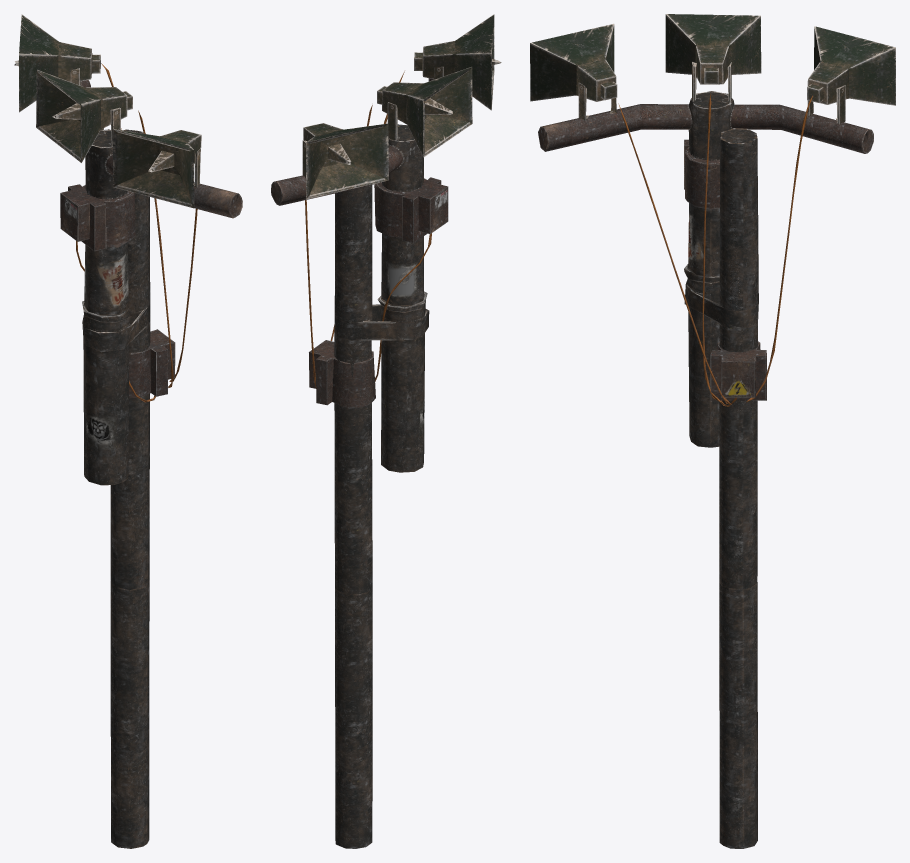
Rendered from SM_Speakers.fbx.
The picture shows the model from 3 angles, left to right: view 1: azimuth 30°, elevation 25°; view 2: azimuth 150°, elevation 25°; view 3: azimuth 270°, elevation 25°; orthographic projection. The views are drawn at different scales.
Visible parts, largest first — view 1: SM_Speakers_LOD0; view 2: SM_Speakers_LOD0; view 3: SM_Speakers_LOD0.
Part boxes in pixels (x1,y1,x2,y2): SM_Speakers_LOD0: (14, 14, 242, 848); SM_Speakers_LOD0: (271, 14, 501, 848); SM_Speakers_LOD0: (530, 14, 895, 848).
Size of the model in its own units: 62.77 by 154 by 364.
Materials: 1 (1 with a texture image).
